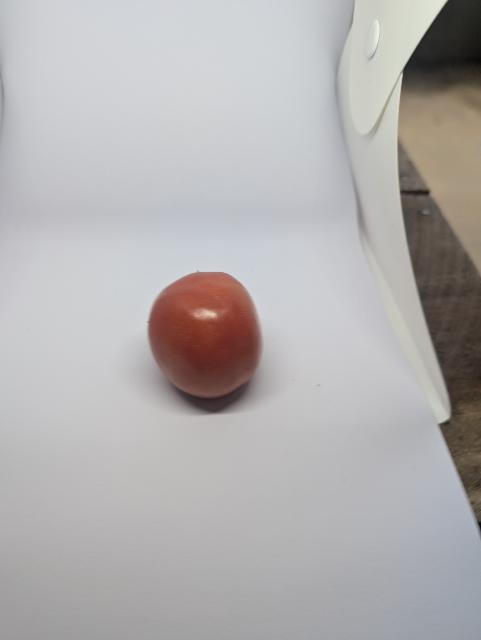red: (142, 270, 280, 406)
